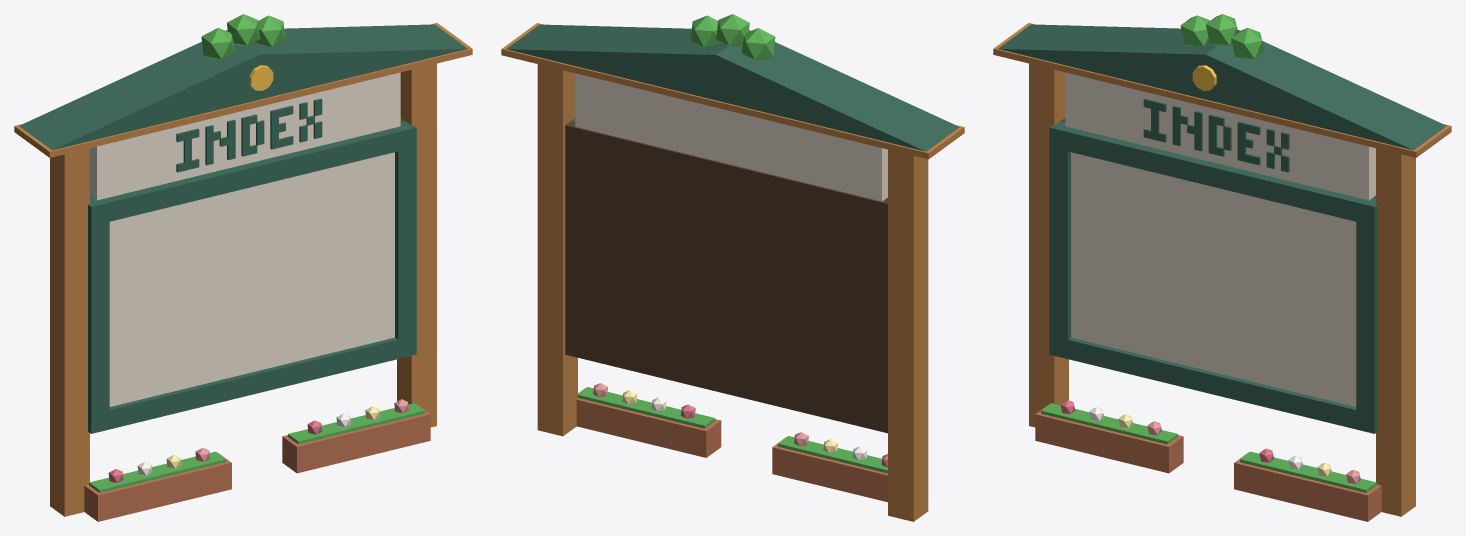
Rendered from CatCafe_Park_IndexBoard.glb.
3 renders of one model, left to right at view 1: azimuth 30°, elevation 25°; view 2: azimuth 150°, elevation 25°; view 3: azimuth 330°, elevation 25°, orthographic.
Visible parts, largest first — view 1: CatCafe_Park_IndexBoard, CatCafe_Park_IndexBoard_Screen; view 2: CatCafe_Park_IndexBoard; view 3: CatCafe_Park_IndexBoard, CatCafe_Park_IndexBoard_Screen.
Part boxes in pixels (x1,y1,x2,y2): CatCafe_Park_IndexBoard: (14, 14, 472, 521); CatCafe_Park_IndexBoard_Screen: (109, 152, 394, 406); CatCafe_Park_IndexBoard: (501, 14, 964, 521); CatCafe_Park_IndexBoard: (993, 14, 1451, 521); CatCafe_Park_IndexBoard_Screen: (1071, 152, 1356, 406).
Bounding box in the file's own units: 11.7 × 11.95 × 1.85.
1 material, 1 textured.
